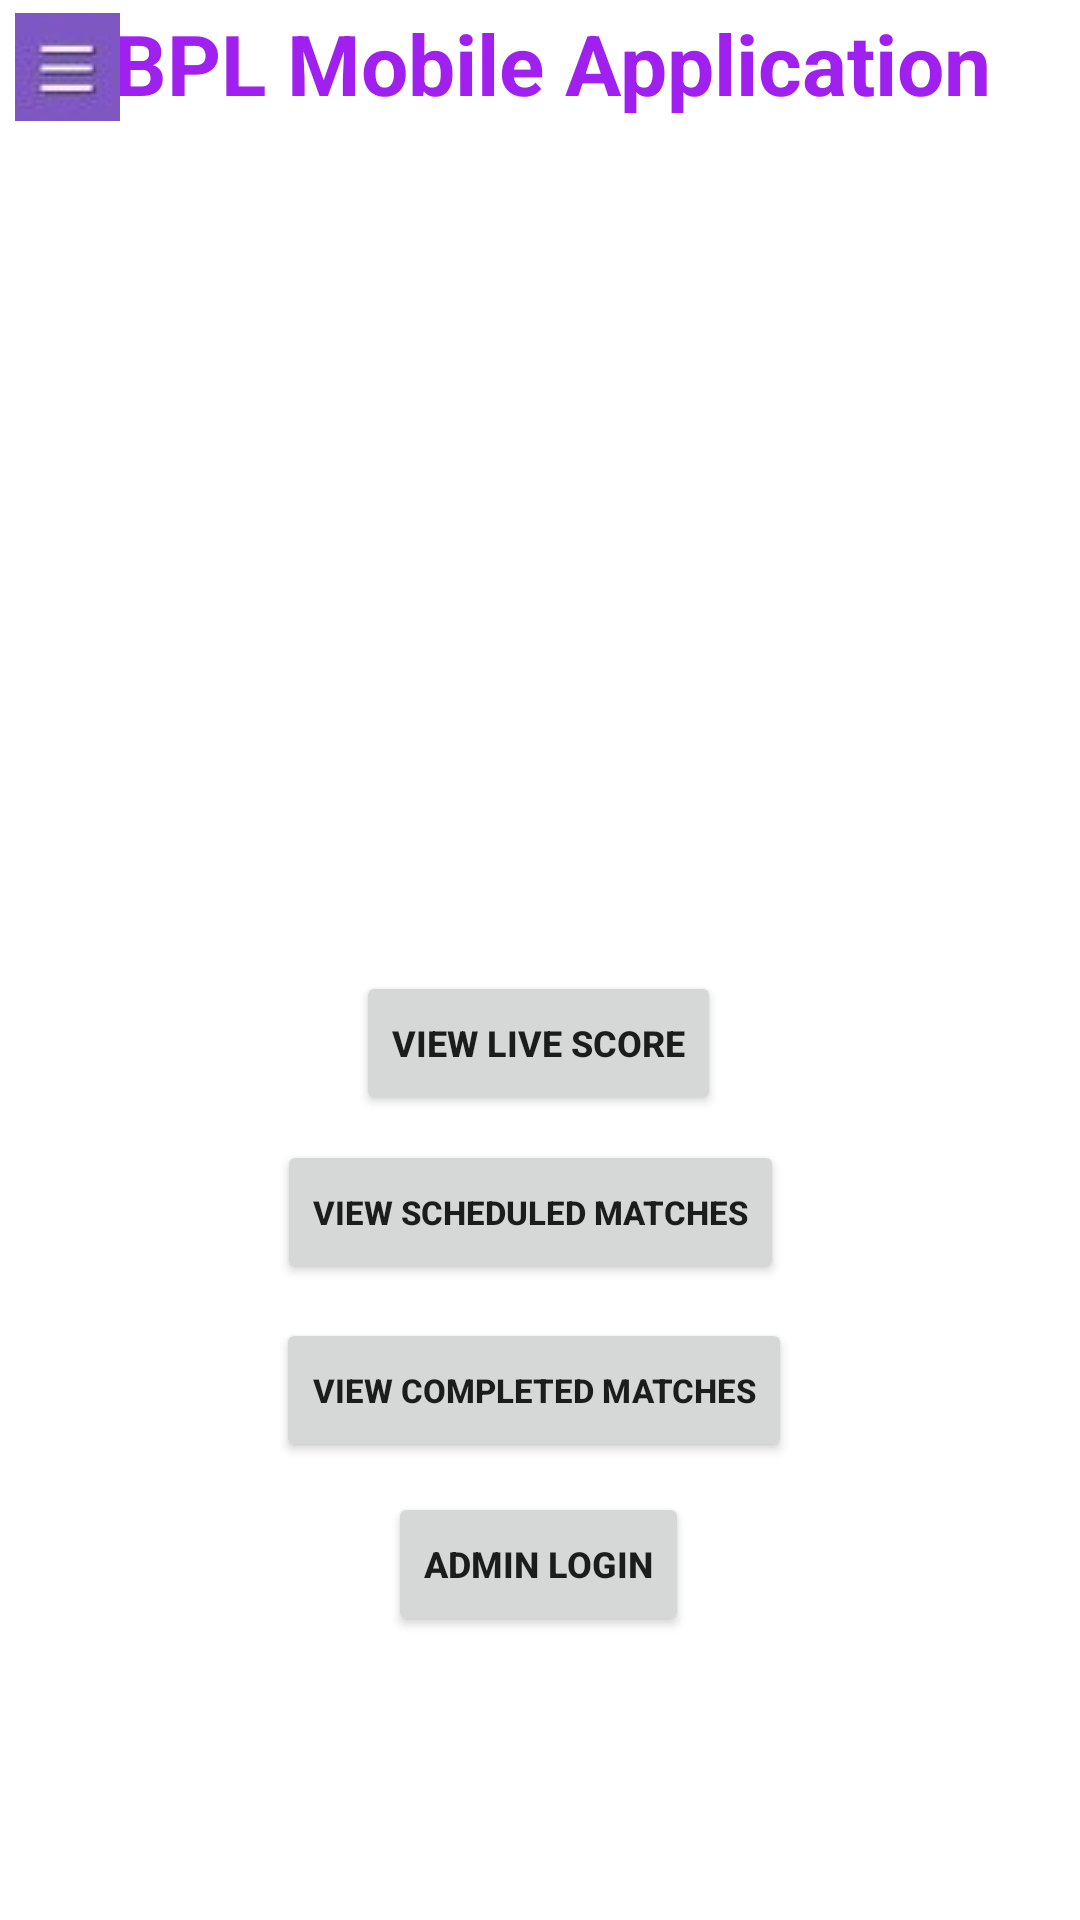

Named icons in this screenshot (1080px×1920px) and their bounding boxes, bbox=[x1, y1, x2, y2]:
ham: bbox=[15, 13, 120, 121]
